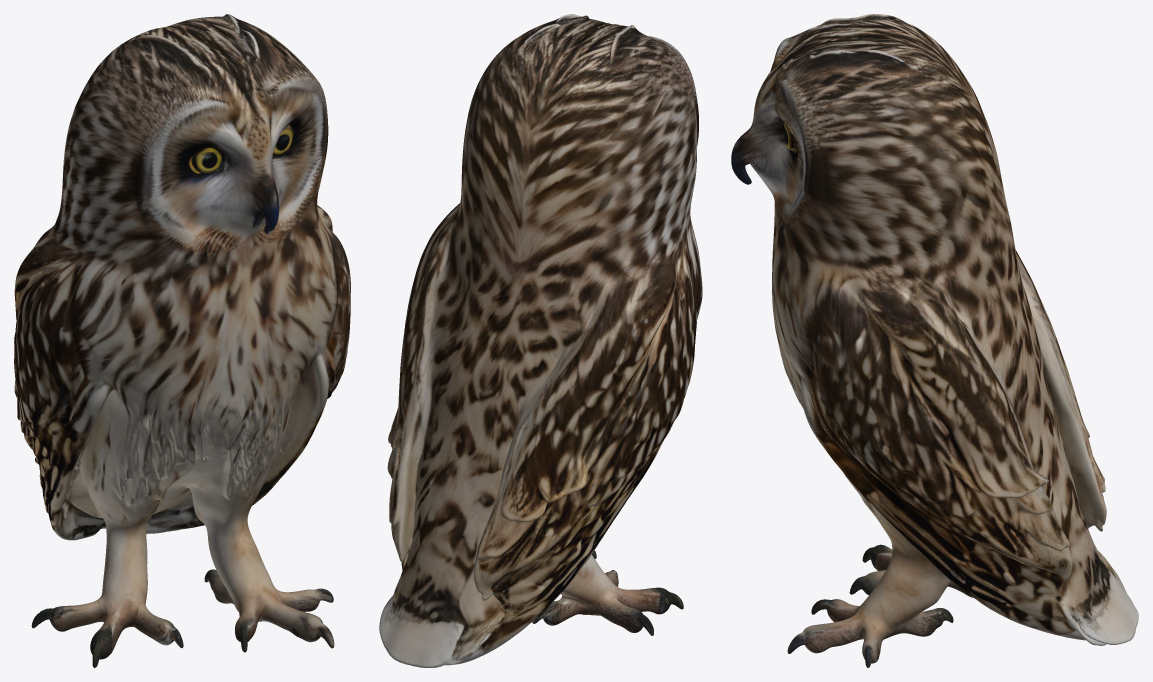
Rendered from 短耳鴞.glb.
The picture shows the model from 3 angles, left to right: view 1: azimuth 30°, elevation 25°; view 2: azimuth 150°, elevation 25°; view 3: azimuth 270°, elevation 25°; orthographic projection. The views are drawn at different scales.
Parts seen in each view (by area): view 1: tripo_node_8f9cee23-c388-4c0d-b08e-b9ec93e6c870; view 2: tripo_node_8f9cee23-c388-4c0d-b08e-b9ec93e6c870; view 3: tripo_node_8f9cee23-c388-4c0d-b08e-b9ec93e6c870.
Boxes of the visible parts, <box> form: tripo_node_8f9cee23-c388-4c0d-b08e-b9ec93e6c870: <box>14,14,350,667</box>; tripo_node_8f9cee23-c388-4c0d-b08e-b9ec93e6c870: <box>379,14,702,667</box>; tripo_node_8f9cee23-c388-4c0d-b08e-b9ec93e6c870: <box>731,14,1138,667</box>.
Size of the model in its own units: 0.4996 by 1 by 0.6342.
Materials: 1 (1 with a texture image).
